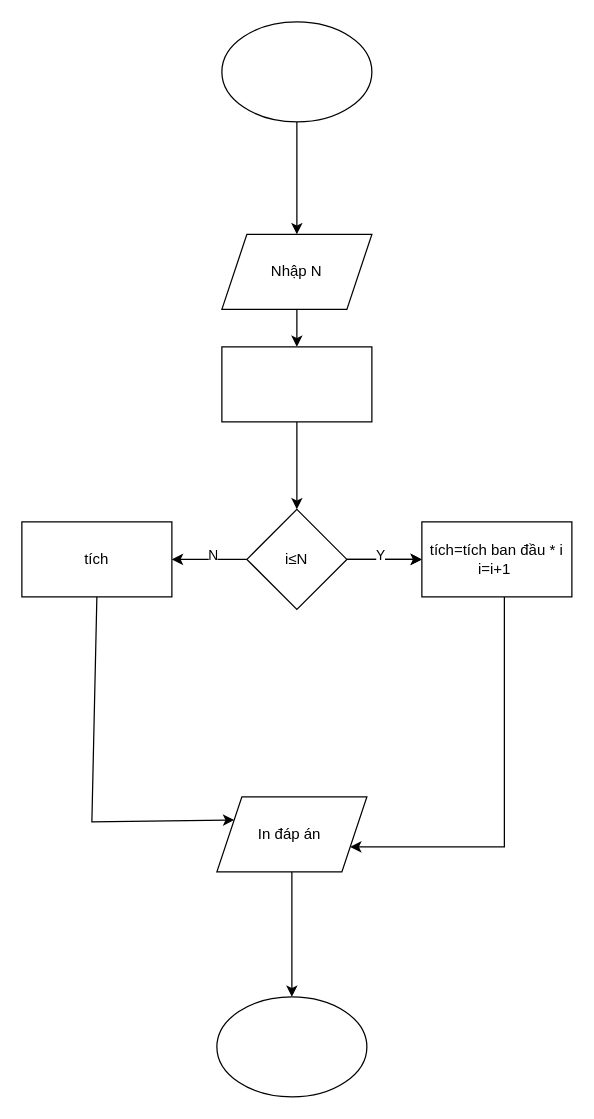
Some shapes in this 594 by 1119 pixel diagram are drawn without their labels. Each missing label, with the centre of its shape:
bắt đầu: point 296,71
kết thúc: point 291,1046
Tích ban đầu = 1 i= 1: point 296,384
